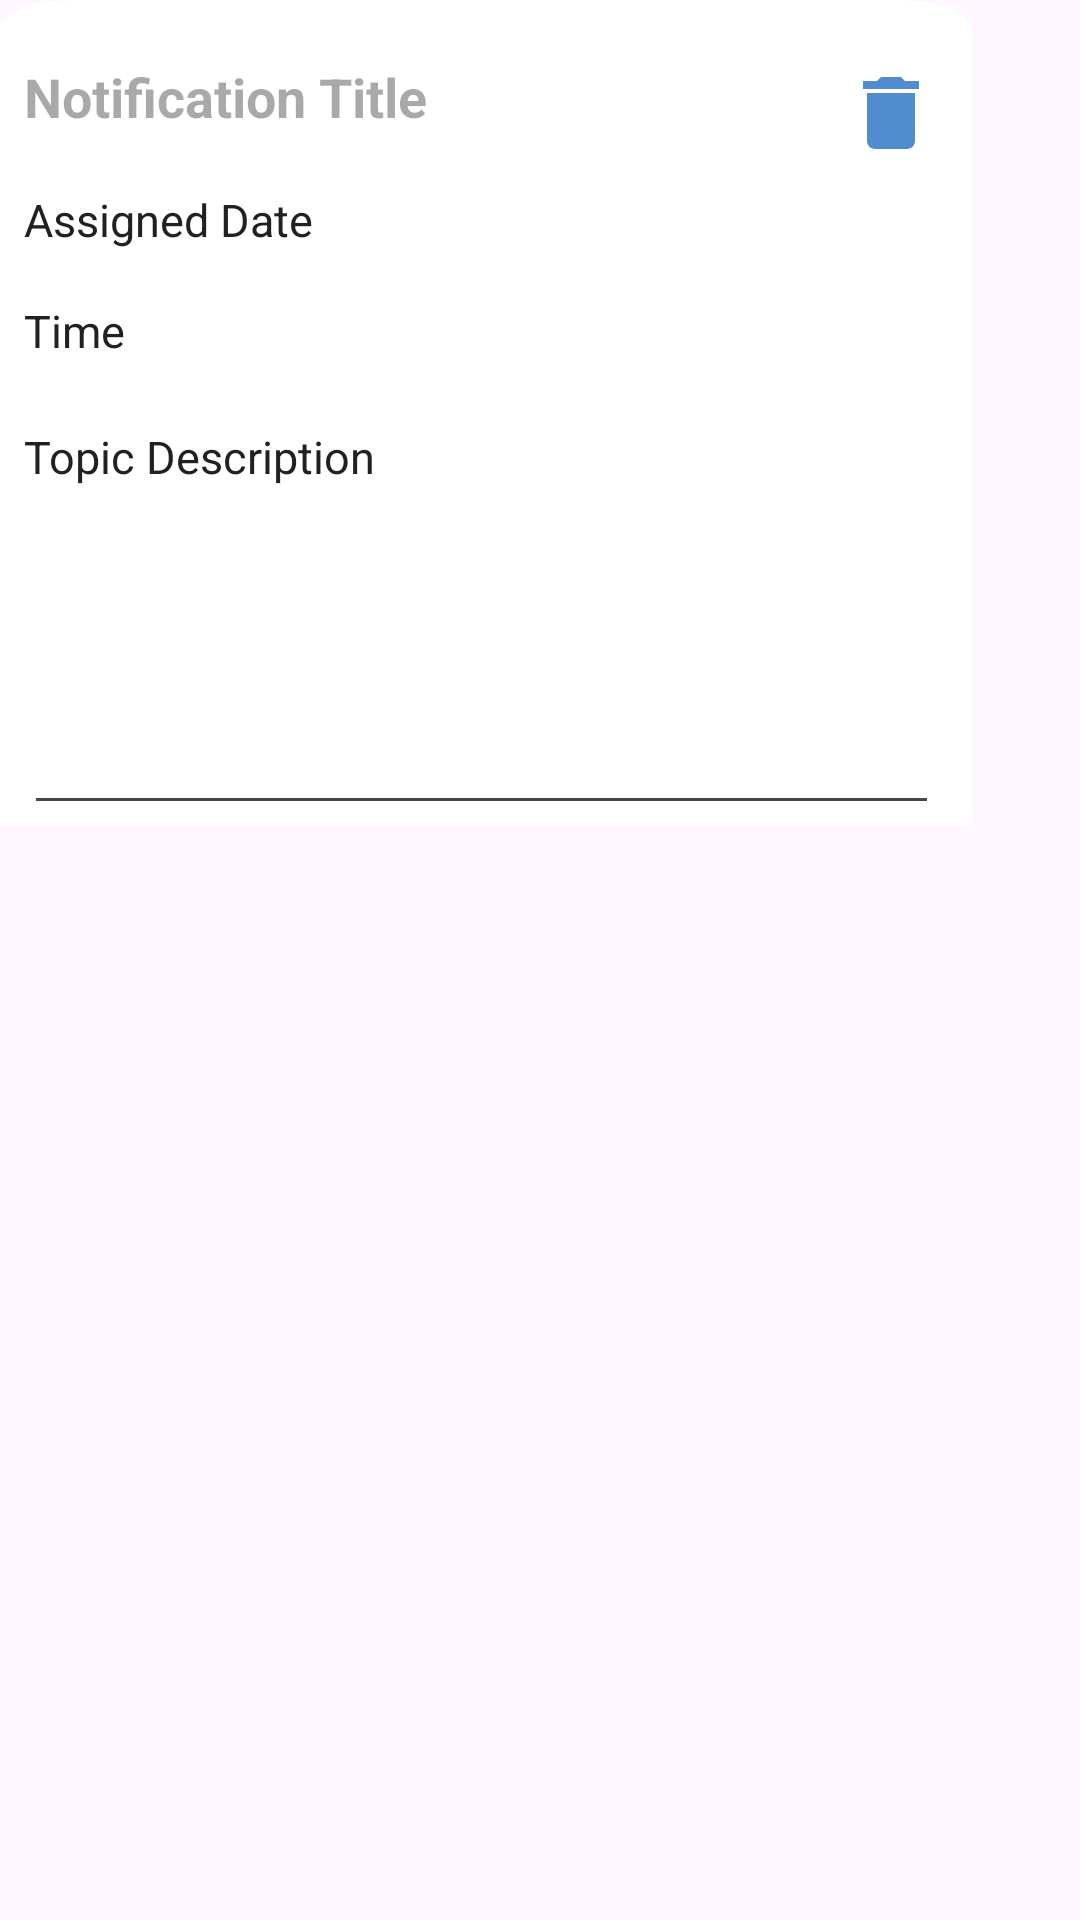

Where icons sit on this 1080×1920 app screen, as (x1, y1, x2, y2):
delete: (863, 77, 919, 149)
